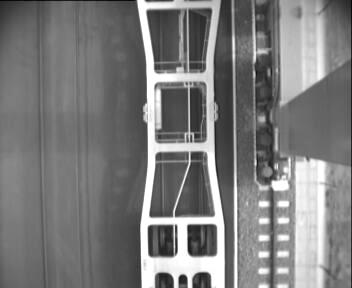wagon_scan: (148, 266, 217, 288)
